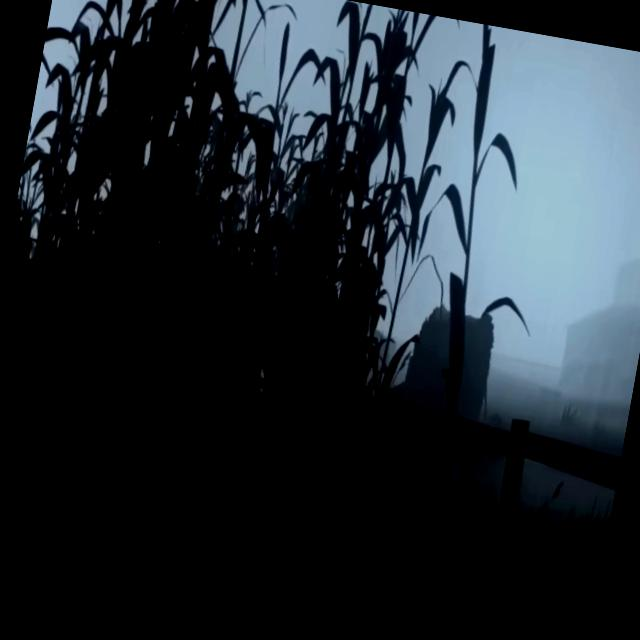boy: (256, 366, 268, 396)
